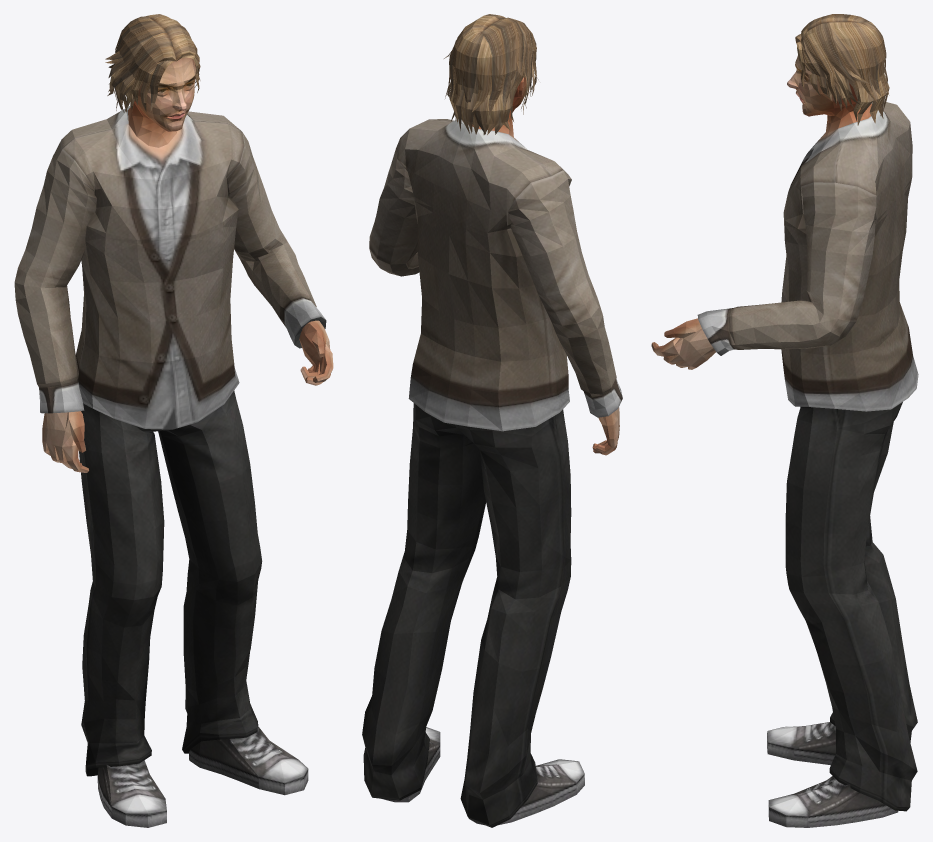
Rendered from sweethome3d-reallusion-holding-male.glb.
3 renders of one model, left to right at view 1: azimuth 30°, elevation 25°; view 2: azimuth 150°, elevation 25°; view 3: azimuth 270°, elevation 25°, orthographic. The views are drawn at different scales.
Parts seen in each view (by area): view 1: Object01; view 2: Object01; view 3: Object01.
Boxes of the visible parts, x1,y1,x2,y2 form: Object01: [14, 14, 333, 827]; Object01: [362, 14, 622, 827]; Object01: [651, 14, 918, 827].
Size of the model in its own units: 62.69 by 185 by 59.27.
Materials: 4 (3 with a texture image).
